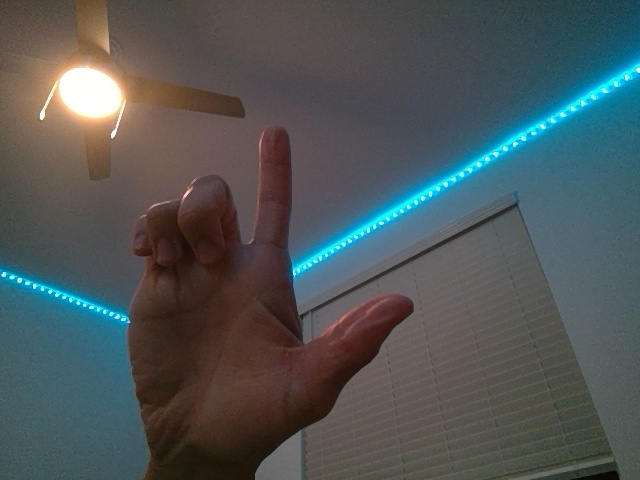l: (125, 127, 415, 456)
